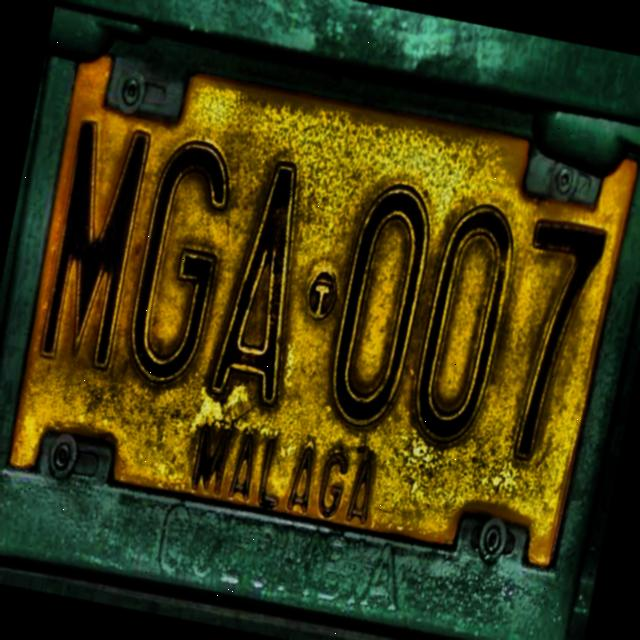0: (308, 168, 444, 438), (399, 188, 531, 454)
7: (487, 208, 613, 470)
A: (198, 147, 330, 410)
G: (116, 130, 245, 394)
M: (29, 110, 162, 378)
